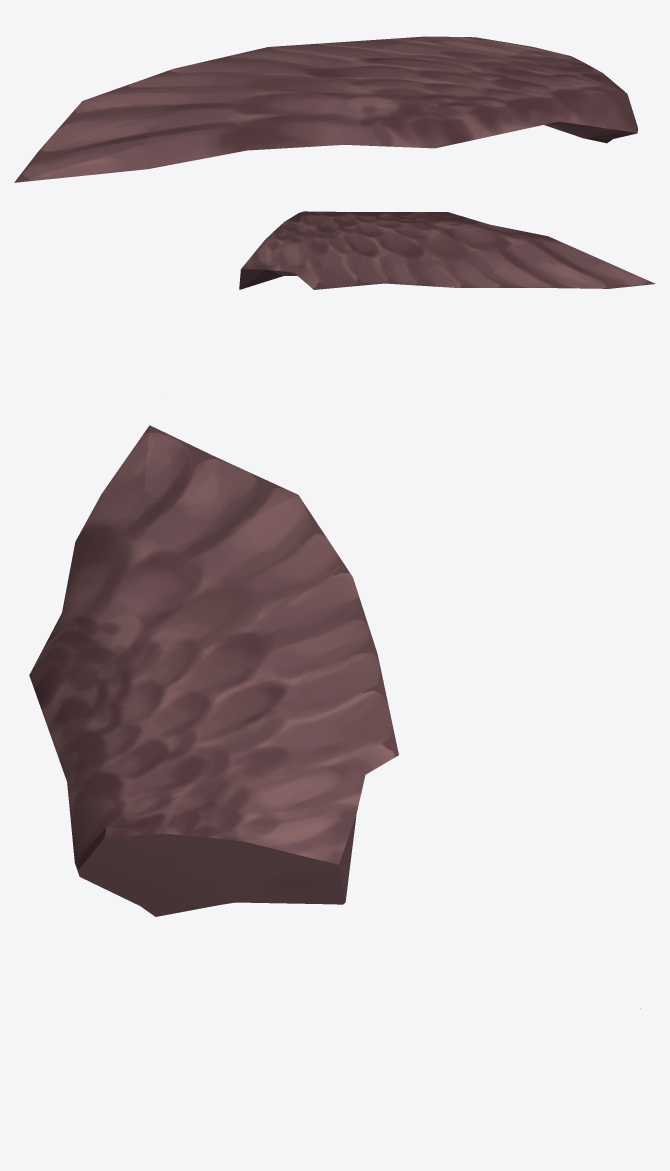
Rendered from eagleleftwing.fbx.
The picture shows the model from 3 angles, top to bottom: view 1: azimuth 30°, elevation 25°; view 2: azimuth 150°, elevation 25°; view 3: azimuth 270°, elevation 25°; orthographic projection. The views are drawn at different scales.
Visible parts, largest first — view 1: Eaglle_Elite.001; view 2: Eaglle_Elite.001; view 3: Eaglle_Elite.001.
Part boxes in pixels (x1,y1,x2,y2): Eaglle_Elite.001: (14,36,637,182); Eaglle_Elite.001: (239,211,655,289); Eaglle_Elite.001: (29,425,640,1008).
Size of the model in its own units: 3030 by 1323 by 5942.
